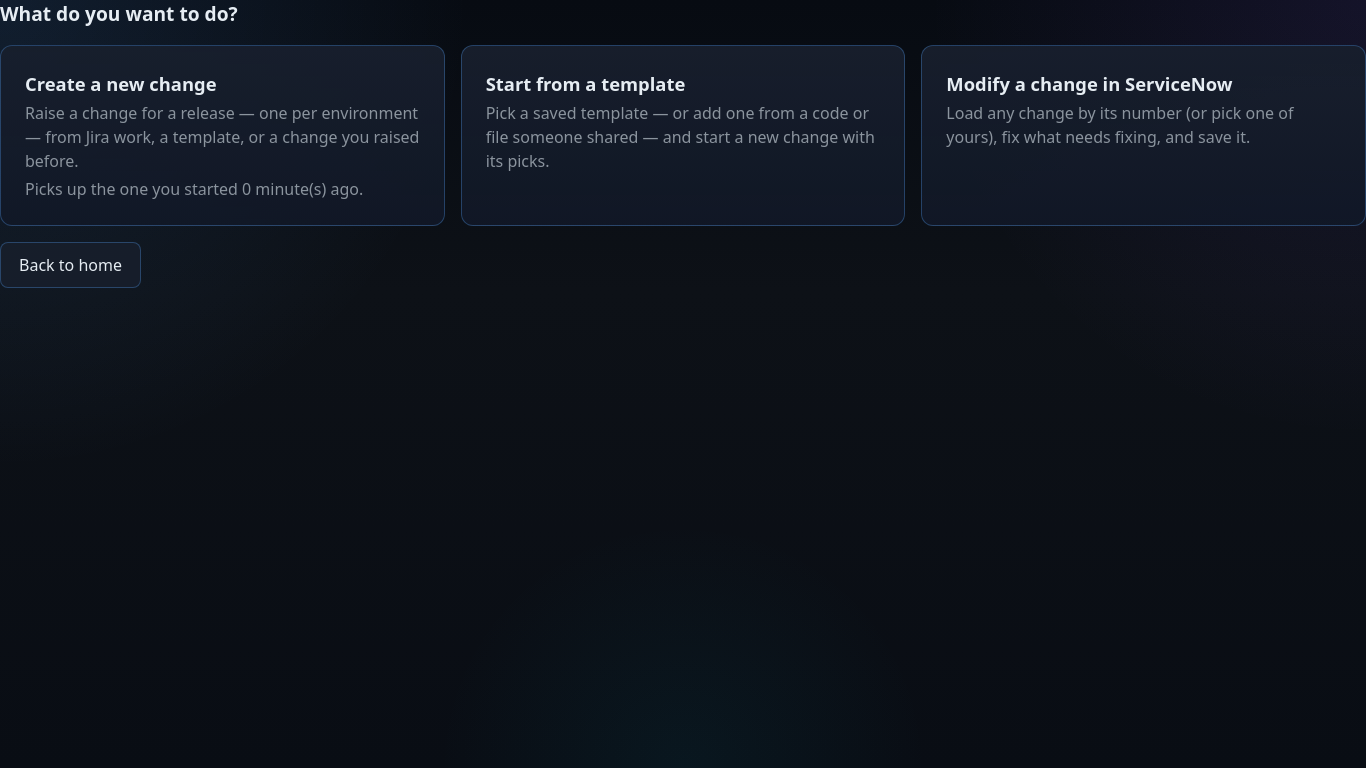
Test: ChangeWizard — new change › starts over from any step: asks once, clears the job and its draft, and shows the first screen
The width and height of the screenshot is (1366, 768).
Click the button "Create a new change" at (222, 136), box x1=0 y1=45 x2=445 y2=226
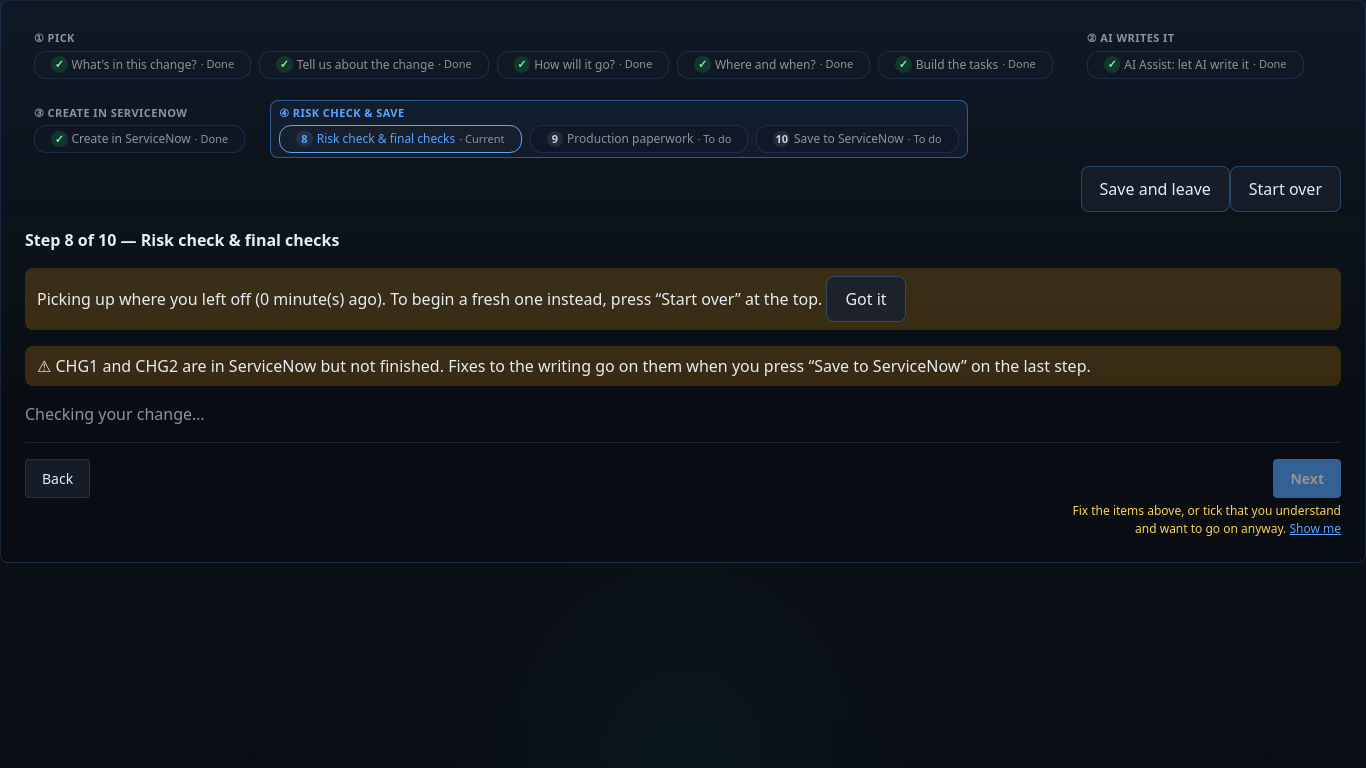
Click the button "Start over" at (1285, 189), box x1=1230 y1=166 x2=1341 y2=212
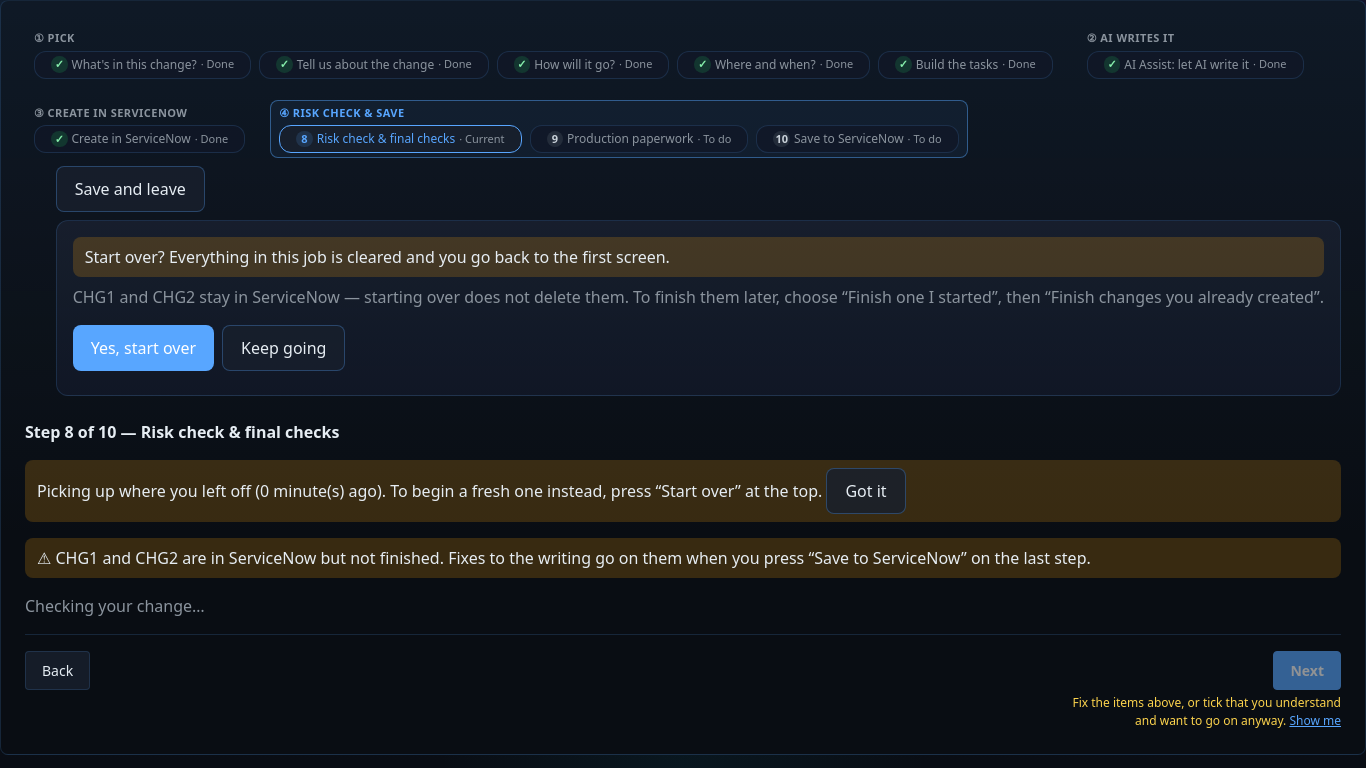
Now the text "CHG1 and CHG2 stay in ServiceNow" is shown, box x1=73 y1=286 x2=1324 y2=308
Click the button "Yes, start over" at (143, 348), box x1=73 y1=325 x2=214 y2=371
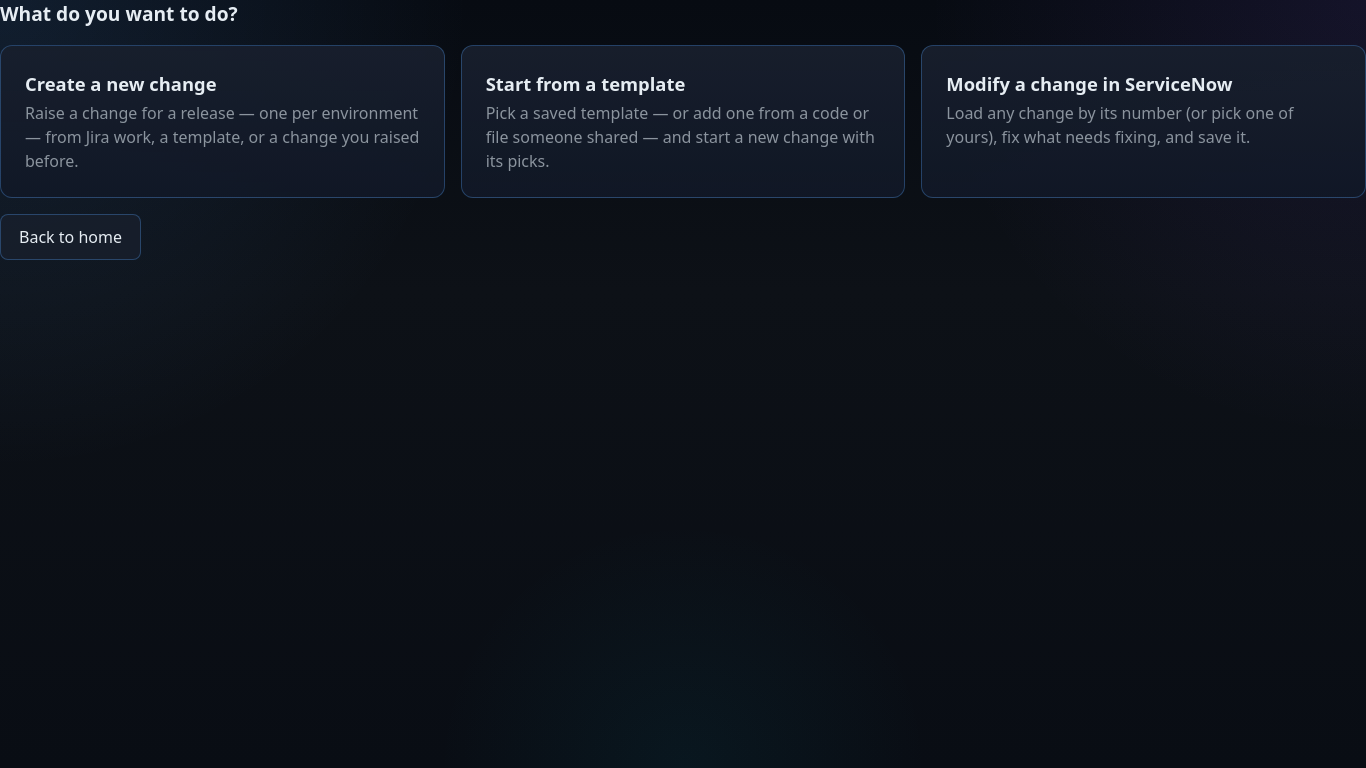
Now the heading "What do you want to do?" is shown, box x1=0 y1=0 x2=238 y2=27
